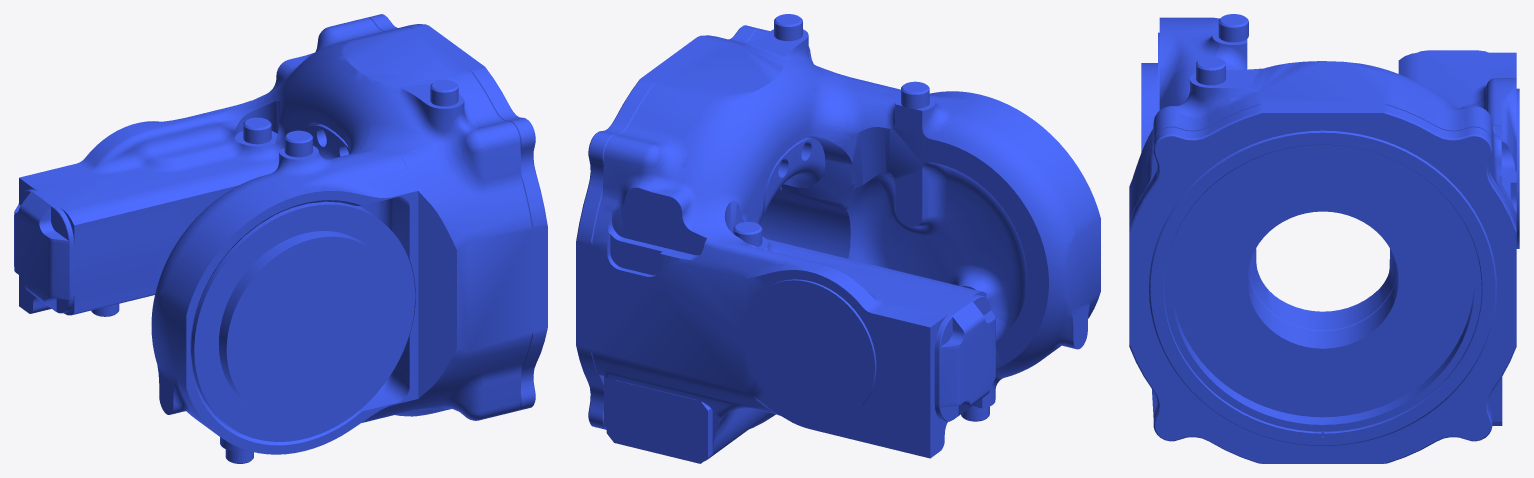
The picture shows the model from 3 angles, left to right: view 1: azimuth 30°, elevation 25°; view 2: azimuth 150°, elevation 25°; view 3: azimuth 270°, elevation 25°; orthographic projection. The views are drawn at different scales.
Parts seen in each view (by area): view 1: B_Axis; view 2: B_Axis; view 3: B_Axis.
Boxes of the visible parts, x1,y1,x2,y2 form: B_Axis: [14, 14, 547, 463]; B_Axis: [576, 14, 1100, 463]; B_Axis: [1129, 14, 1519, 463].
Bounding box in the file's own units: 0.1488 × 0.129 × 0.134.
